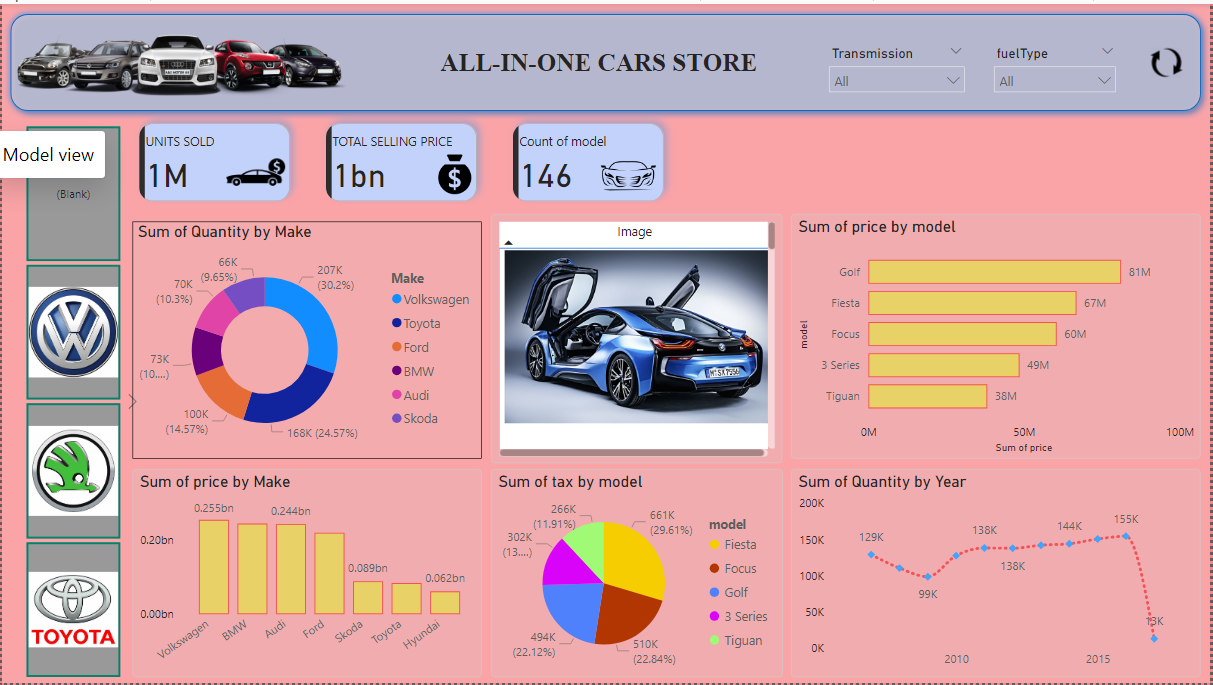

This screenshot's page, from the dashboard's own definition file:
{"tool":"powerbi","page":{"name":"Page 1","canvas":[1280,720],"ordinal":0},"visuals":[{"type":"shape","box":[0,2,1279.5,120.8],"z":0},{"type":"image","box":[0,0,373.5,128.7],"z":1000},{"type":"textbox","box":[459.3,41.3,360.8,46.1],"z":2000},{"type":"slicer","fields":{"Values":["Brands_Master Data.Logo.png link"]},"box":[0,122.4,149.4,597.6],"z":3000},{"type":"cardVisual","fields":{"Data":["Brands_Master Data.UNITS SOLD","Brands_Master Data.TOTAL PRICE","Count(cars_dataset.model)"]},"box":[124,104.9,600.8,125.6],"z":4000},{"type":"image","box":[451.4,154.2,57.2,52.5],"z":5000},{"type":"image","box":[232.1,133.5,73.1,89],"z":6000},{"type":"image","box":[594.4,128.7,138.3,106.5],"z":7000},{"type":"image","box":[1188.9,39.7,90.6,44.5],"z":8000},{"type":"actionButton","box":[1203.2,33.4,60.4,57.2],"z":9000},{"type":"columnChart","fields":{"Category":["cars_dataset.Make"],"Y":["Sum(cars_dataset.price)"]},"box":[138.3,492.7,370.3,220.9],"z":10000},{"type":"barChart","fields":{"Y":["Sum(cars_dataset.price)"],"Category":["cars_dataset.model"]},"box":[836,222.5,433.9,259.1],"z":11000},{"type":"donutChart","fields":{"Category":["Norway_car_sales_by_make.Make"],"Y":["Sum(Norway_car_sales_by_make.Quantity)"]},"box":[138.3,230.5,370.3,251.1],"z":12000},{"type":"lineChart","fields":{"Category":["Norway_car_sales_by_make.Year"],"Y":["Sum(Norway_car_sales_by_make.Quantity)"]},"box":[836,492.7,433.9,220.9],"z":13000},{"type":"pieChart","fields":{"Category":["cars_dataset.model"],"Y":["Sum(cars_dataset.tax)"]},"box":[518.1,492.7,309,220.9],"z":14000},{"type":"slicer","fields":{"Values":["cars_dataset.transmission"]},"box":[866.2,38.1,163.7,65.2],"z":15000},{"type":"slicer","fields":{"Values":["cars_dataset.fuelType"]},"box":[1041.5,38.6,149.4,65.2],"z":16000},{"type":"tableEx","fields":{"Values":["Brands_Master Data.Image"]},"box":[518.1,222.5,308.3,263.8],"z":17000}]}

Visuals, with their boxes in screenshot pixels (x1, y1, x2, y2), scaled from the page's 1280x720 canvas onto the 1213x685 screenshot:
shape: [left=0, top=2, right=1212, bottom=117]
image: [left=0, top=0, right=354, bottom=122]
textbox: [left=435, top=39, right=777, bottom=83]
slicer - Brands_Master Data.Logo.png link: [left=0, top=116, right=142, bottom=684]
cardVisual - Brands_Master Data.UNITS SOLD x Brands_Master Data.TOTAL PRICE: [left=118, top=100, right=687, bottom=219]
image: [left=428, top=147, right=482, bottom=197]
image: [left=220, top=127, right=289, bottom=212]
image: [left=563, top=122, right=694, bottom=224]
image: [left=1127, top=38, right=1212, bottom=80]
actionButton: [left=1140, top=32, right=1197, bottom=86]
columnChart - cars_dataset.Make x Sum(cars_dataset.price): [left=131, top=469, right=482, bottom=679]
barChart - Sum(cars_dataset.price) x cars_dataset.model: [left=792, top=212, right=1203, bottom=458]
donutChart - Norway_car_sales_by_make.Make x Sum(Norway_car_sales_by_make.Quantity): [left=131, top=219, right=482, bottom=458]
lineChart - Norway_car_sales_by_make.Year x Sum(Norway_car_sales_by_make.Quantity): [left=792, top=469, right=1203, bottom=679]
pieChart - cars_dataset.model x Sum(cars_dataset.tax): [left=491, top=469, right=784, bottom=679]
slicer - cars_dataset.transmission: [left=821, top=36, right=976, bottom=98]
slicer - cars_dataset.fuelType: [left=987, top=37, right=1129, bottom=99]
tableEx - Brands_Master Data.Image: [left=491, top=212, right=783, bottom=463]
